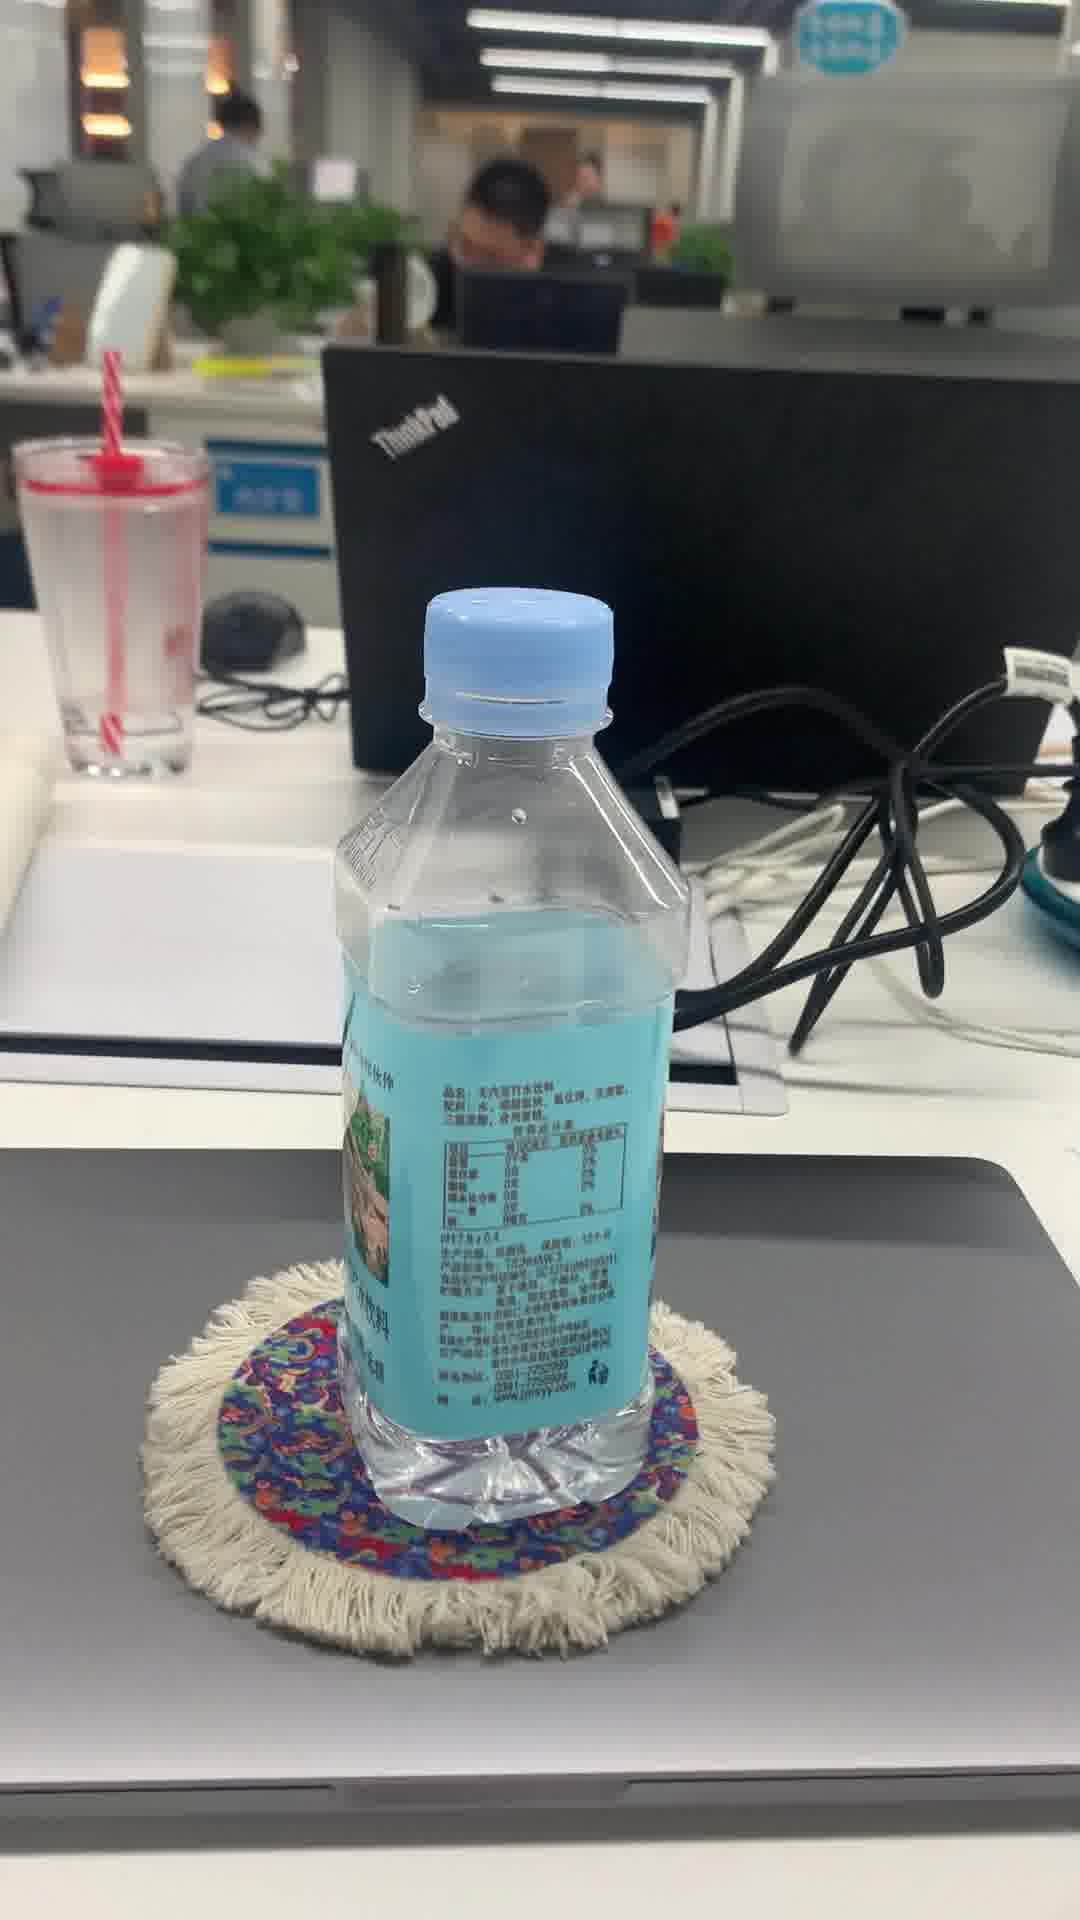水瓶: (324, 575, 698, 1538)
